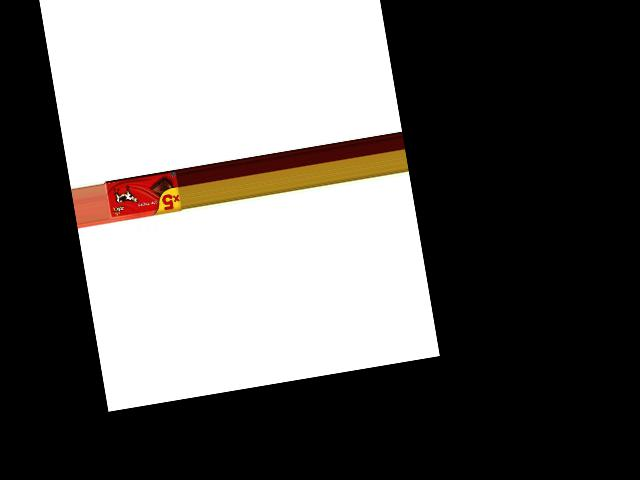chocolate: (103, 170, 182, 224)
